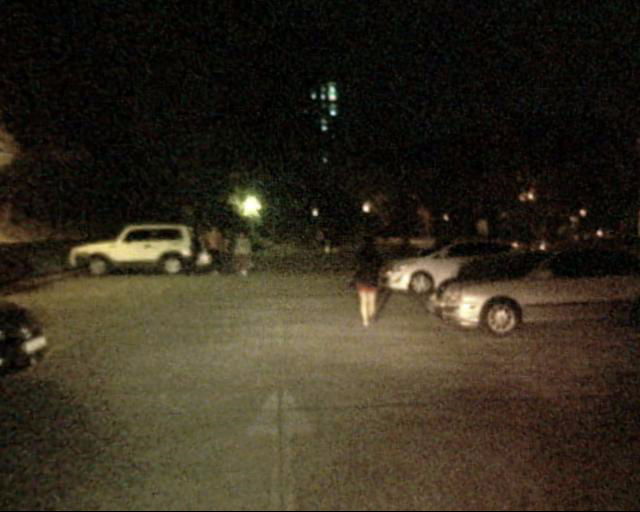person: (343, 219, 395, 333), (230, 222, 266, 285), (202, 219, 229, 280), (329, 228, 349, 261), (310, 228, 330, 259)
